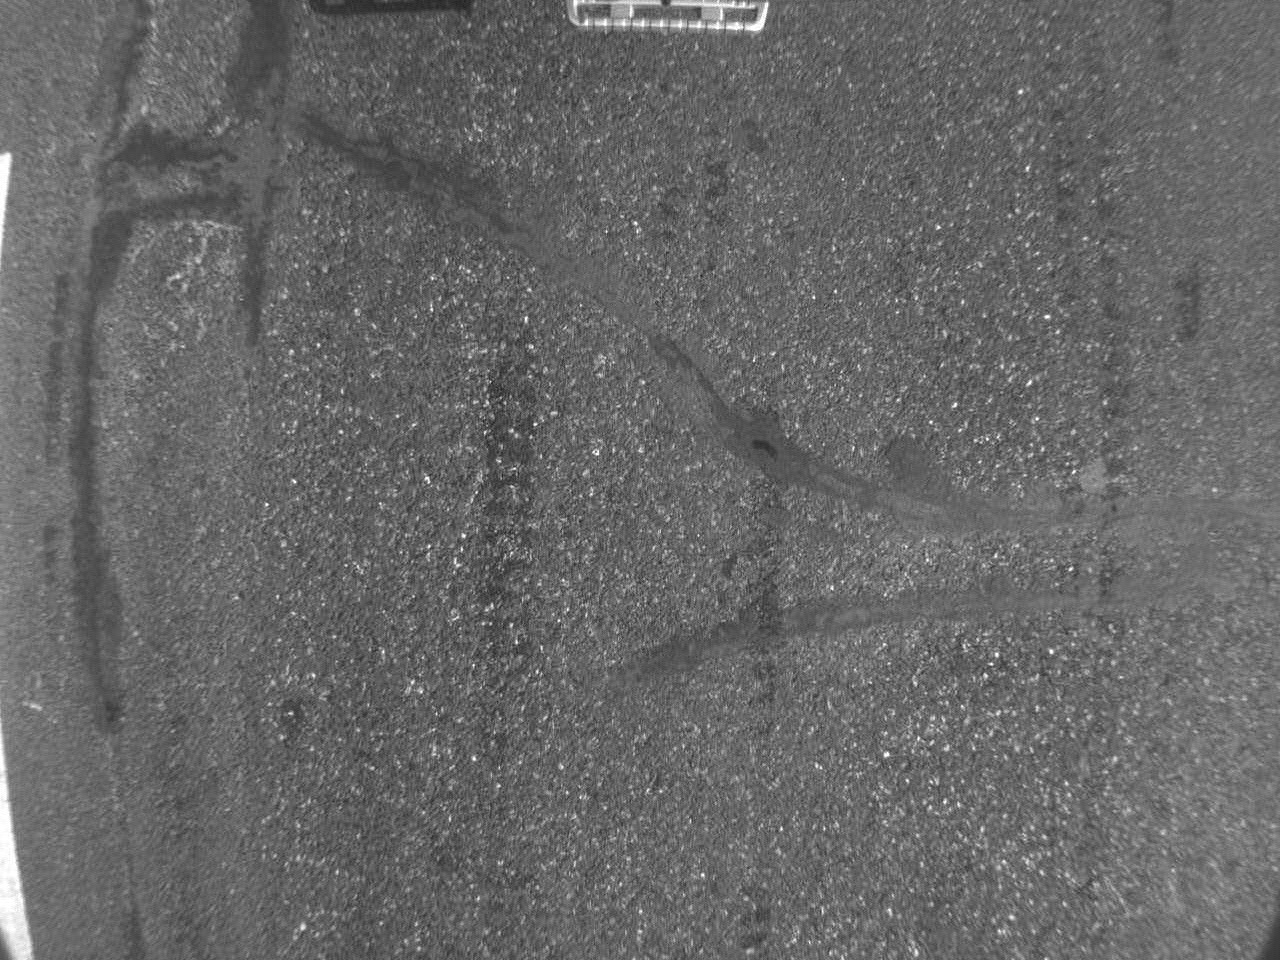sealed: (283, 103, 1275, 553), (622, 568, 1270, 667)
